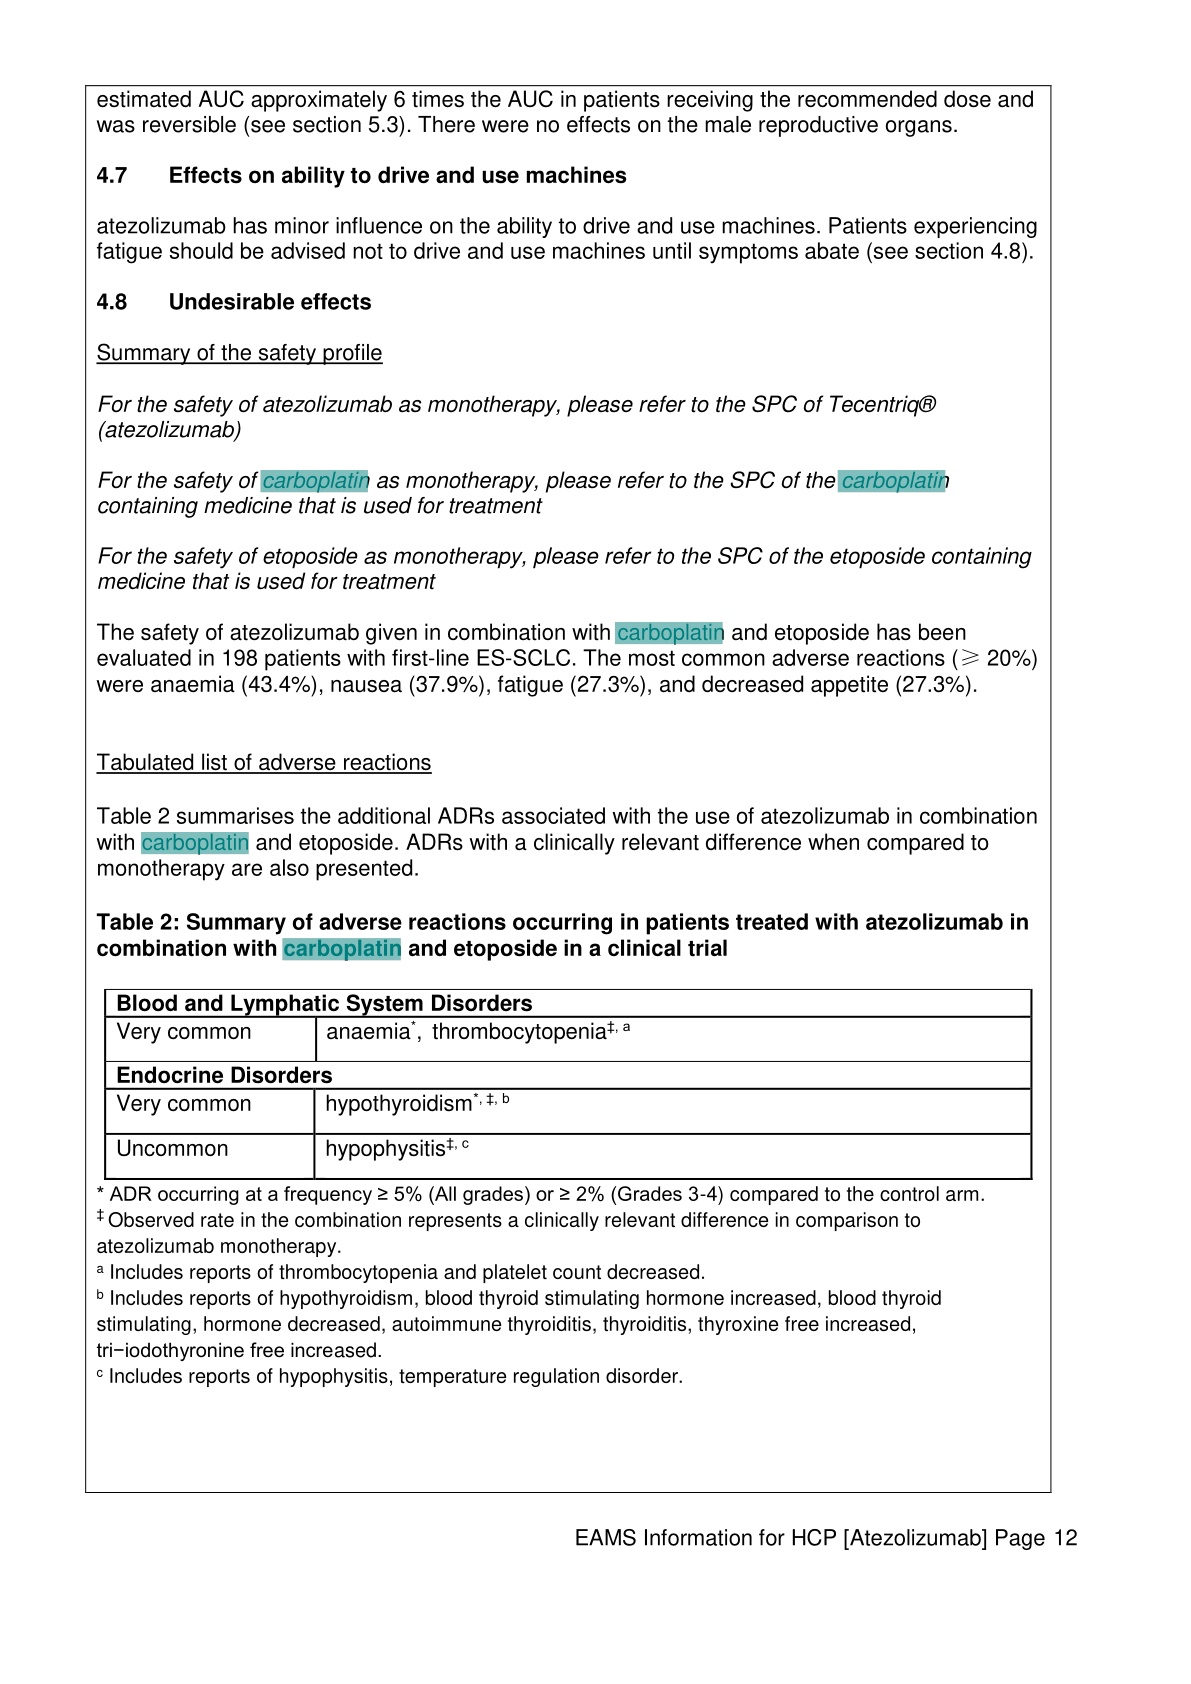merged_cells: (102, 987, 1035, 1182)
